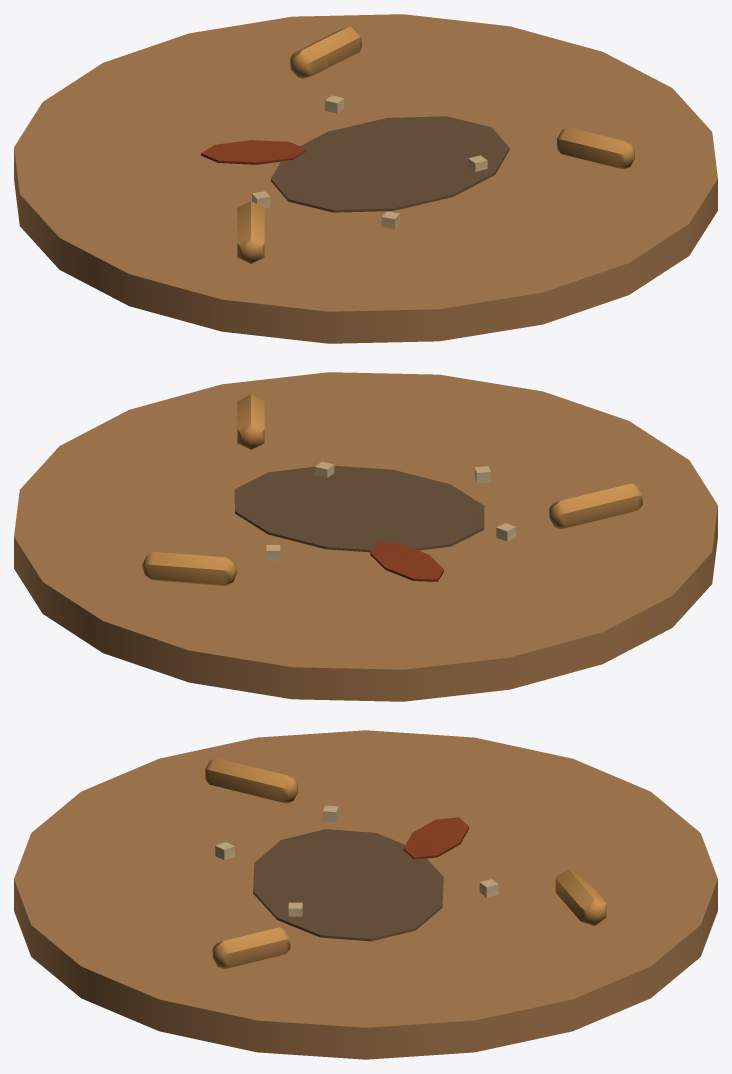
Rendered from pizzaBoardDirty.glb.
The picture shows the model from 3 angles, top to bottom: view 1: azimuth 30°, elevation 25°; view 2: azimuth 150°, elevation 25°; view 3: azimuth 270°, elevation 25°; orthographic projection.
Parts seen in each view (by area): view 1: pizzaBoardDirty; view 2: pizzaBoardDirty; view 3: pizzaBoardDirty.
Part boxes in pixels (x1,y1,x2,y2): pizzaBoardDirty: [14, 14, 717, 343]; pizzaBoardDirty: [14, 372, 717, 701]; pizzaBoardDirty: [14, 730, 717, 1059].
Bounding box in the file's own units: 0.4 × 0.038 × 0.4.
